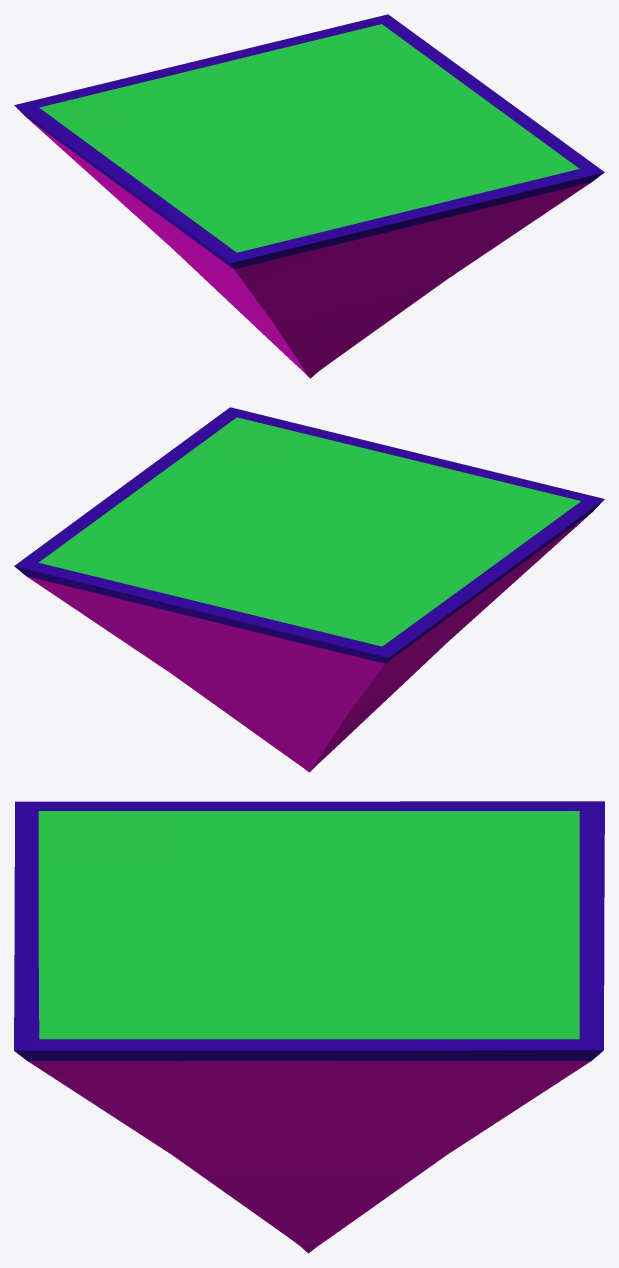
Rendered from Board_Lowpoly.fbx.
3 views of the same model, one above another, from view 1: azimuth 30°, elevation 25°; view 2: azimuth 150°, elevation 25°; view 3: azimuth 270°, elevation 25° (orthographic). The views are drawn at different scales.
Visible parts, largest first — view 1: Board_Lowpoly; view 2: Board_Lowpoly; view 3: Board_Lowpoly.
Boxes of the visible parts, left/top/right/bottom form: Board_Lowpoly: left=14, top=14, right=604, bottom=378; Board_Lowpoly: left=14, top=407, right=604, bottom=772; Board_Lowpoly: left=14, top=801, right=604, bottom=1253.
Size of the model in its own units: 26.33 by 16.14 by 26.36.
